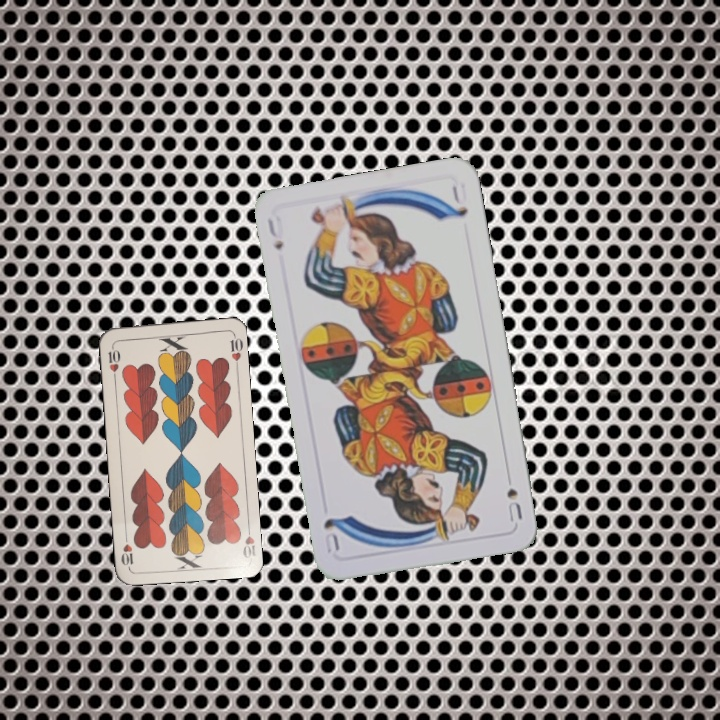H10: (104, 341, 123, 382), (239, 520, 258, 561)
SU: (263, 212, 287, 253), (502, 484, 525, 524)
